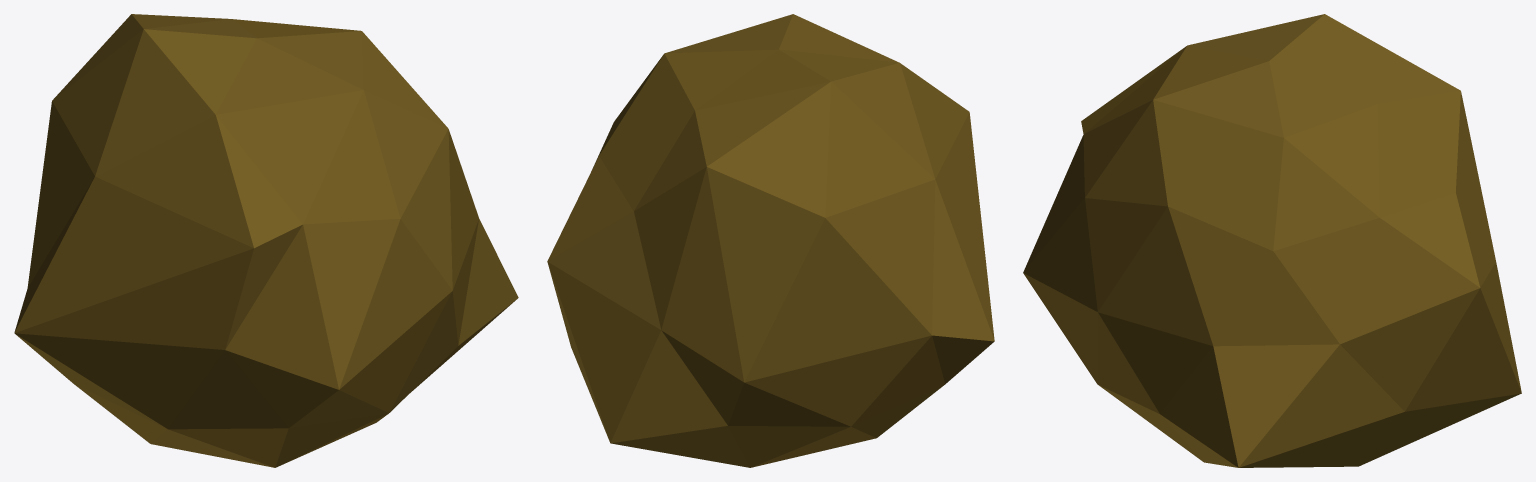
File: pellet.fbx
3 renders of one model, left to right at view 1: azimuth 30°, elevation 25°; view 2: azimuth 150°, elevation 25°; view 3: azimuth 270°, elevation 25°, orthographic. The views are drawn at different scales.
Visible parts, largest first — view 1: Icosphere; view 2: Icosphere; view 3: Icosphere.
Boxes of the visible parts, bbox=[...] form: Icosphere: bbox=[14, 14, 518, 467]; Icosphere: bbox=[547, 14, 994, 467]; Icosphere: bbox=[1023, 14, 1521, 467].
Size of the model in its own units: 254 by 212 by 240.
